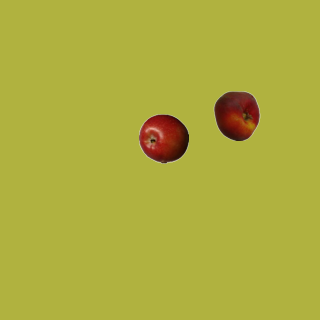Apple Braeburn: (138, 113, 188, 163)
Nectarine Flat: (211, 90, 261, 140)
